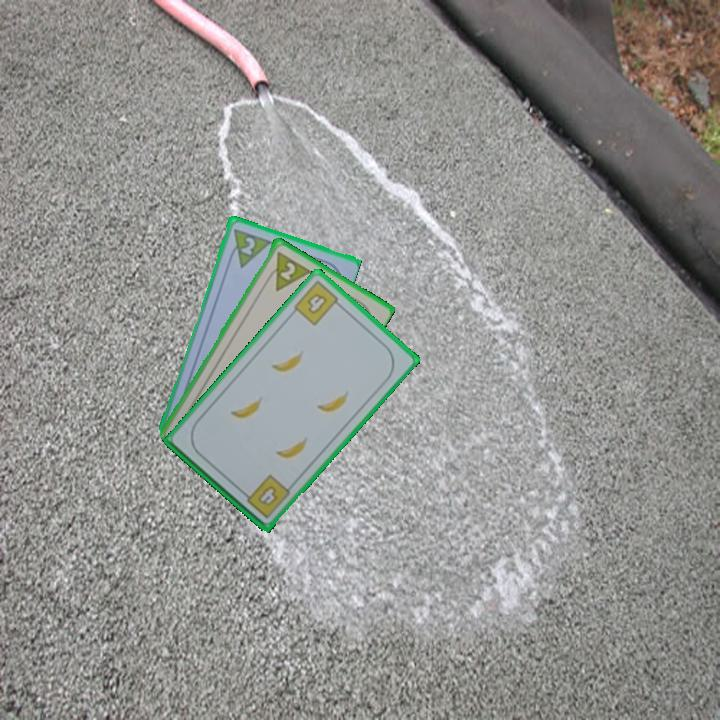2p: (261, 247, 312, 294), (224, 224, 272, 270)
4b: (290, 277, 346, 328), (238, 471, 293, 521)
